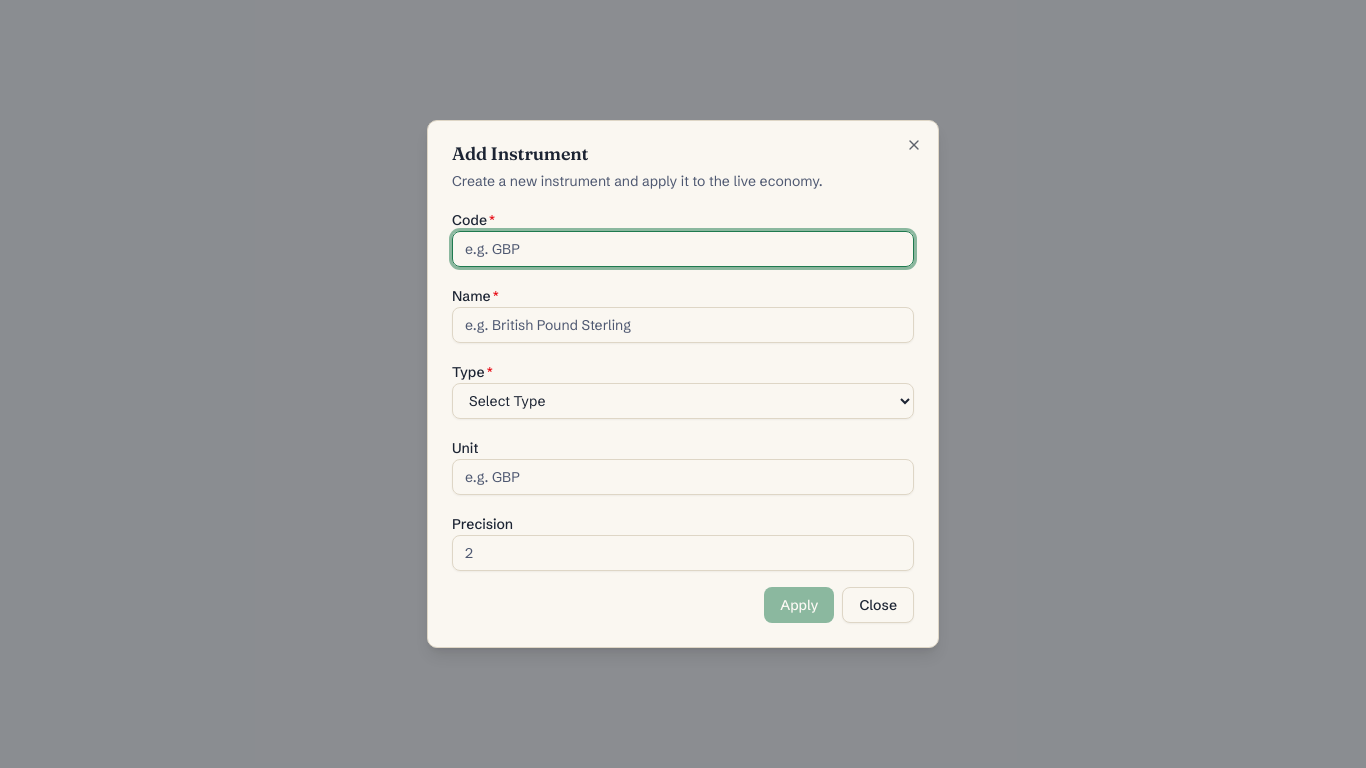
it: ApplyResourceModal › shows validation error from server response
Type "GBP" into the field labelled "Code" at (683, 249), box top-left (452, 231), bottom-right (914, 267)
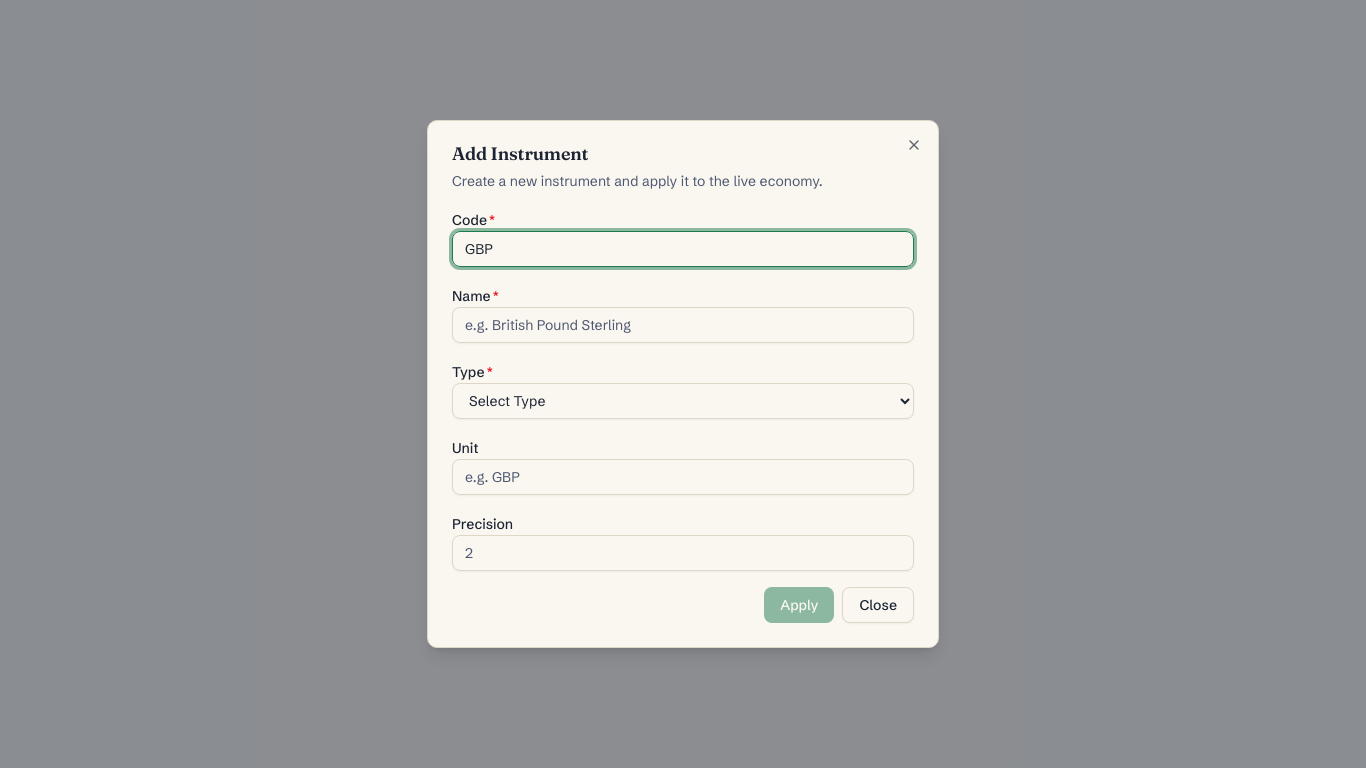
Type "British Pound" into the field labelled "Name" at (683, 325), box top-left (452, 307), bottom-right (914, 343)
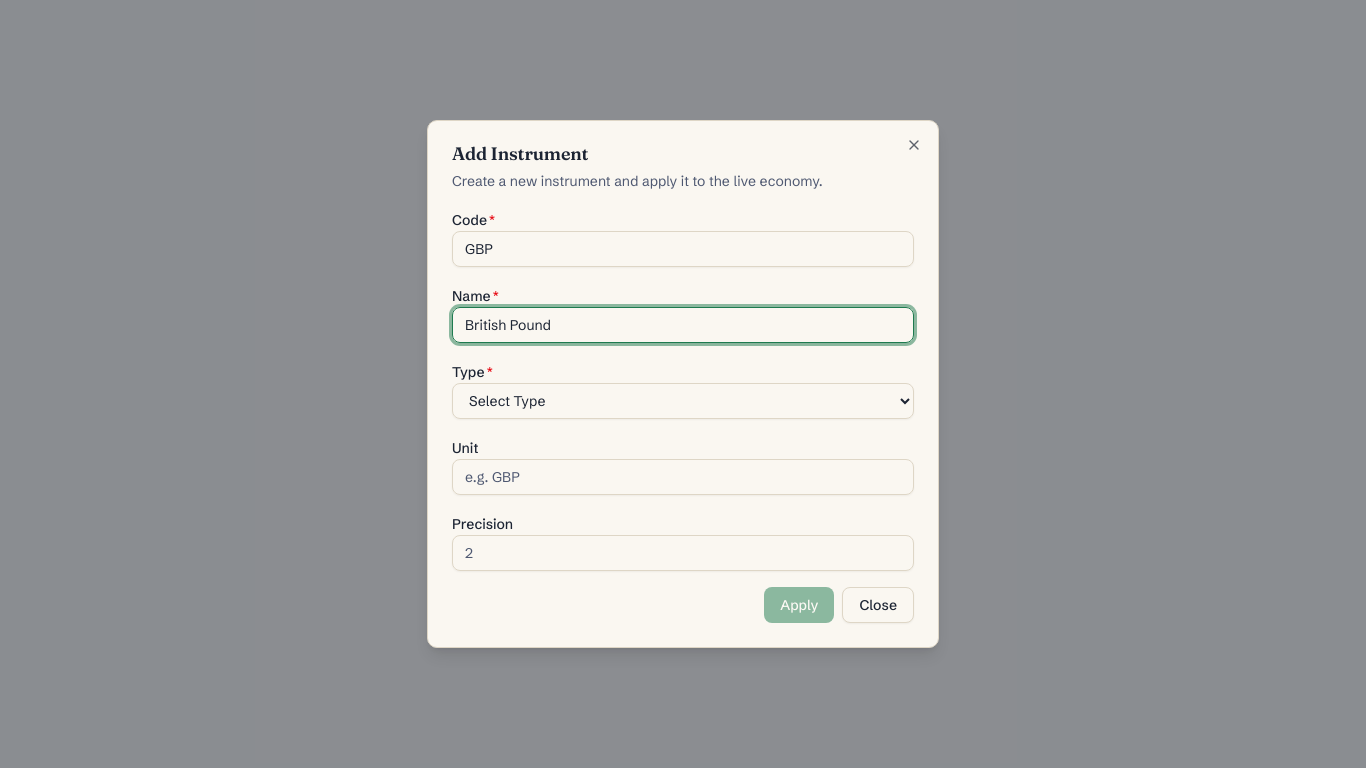
Select "Fiat" in the dropdown labelled "Type" at (683, 401), box top-left (452, 383), bottom-right (914, 419)
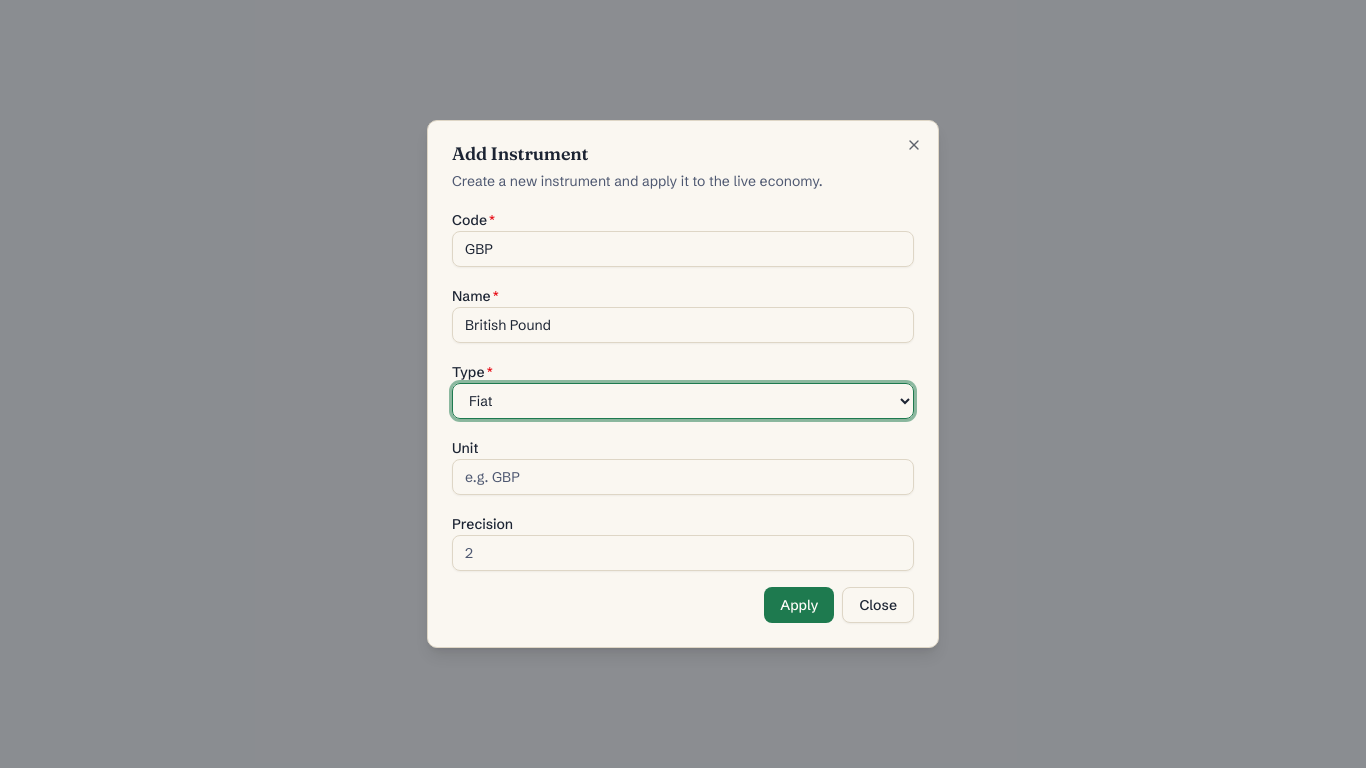
Click the button with test id "apply-resource-submit" at (799, 605), box top-left (764, 587), bottom-right (834, 623)
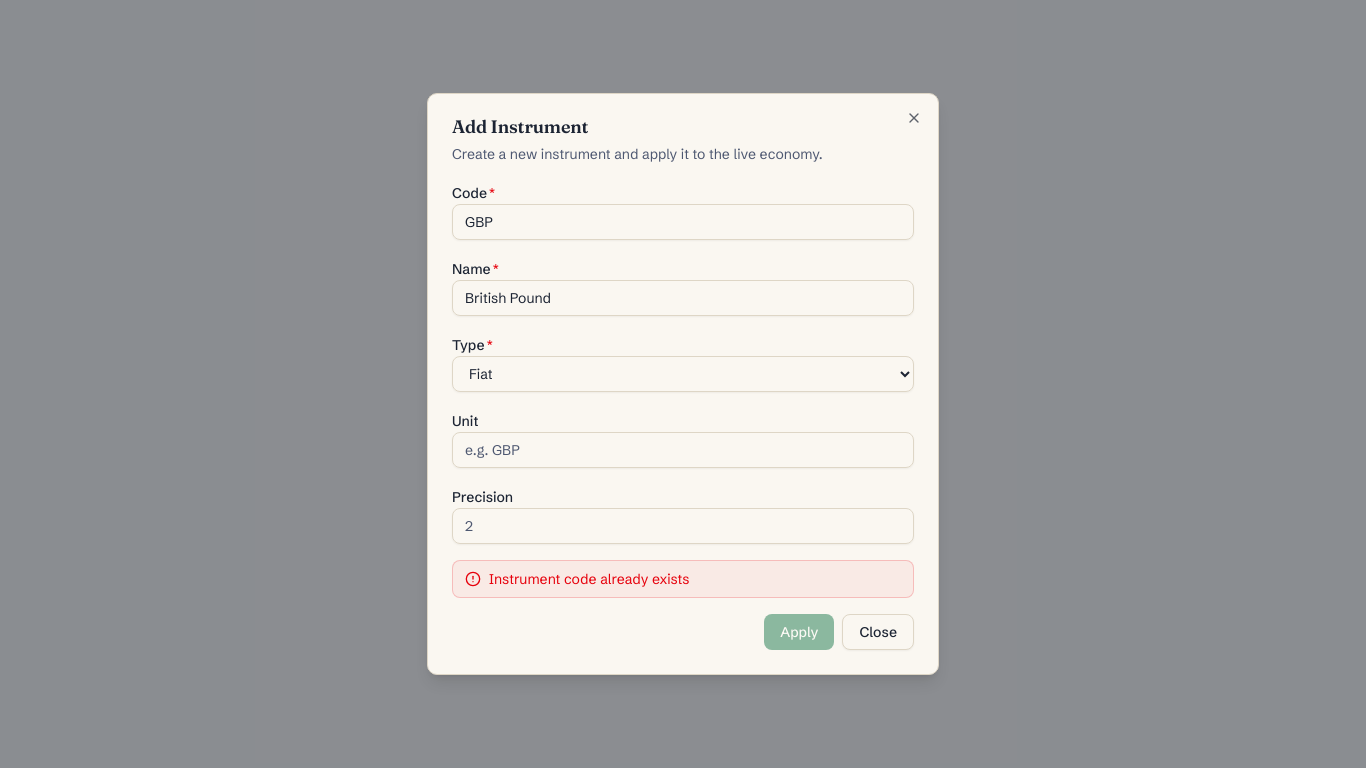
Check: the element with test id "apply-resource-error" is shown, box top-left (452, 560), bottom-right (914, 598)
Check: the text "Instrument code already exists" is shown, box top-left (489, 569), bottom-right (690, 589)
